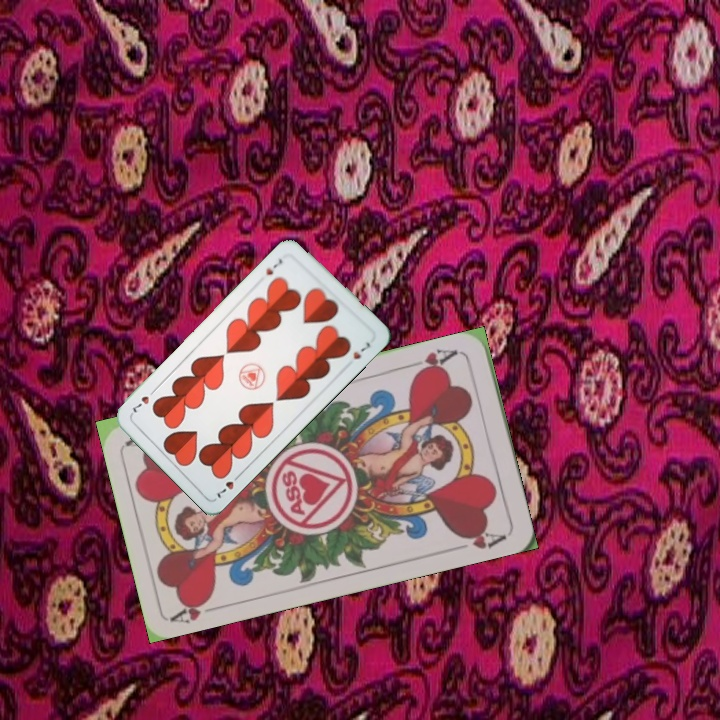H7: (213, 469, 244, 501), (262, 254, 285, 278)
HA: (405, 344, 464, 378), (168, 592, 227, 626)
